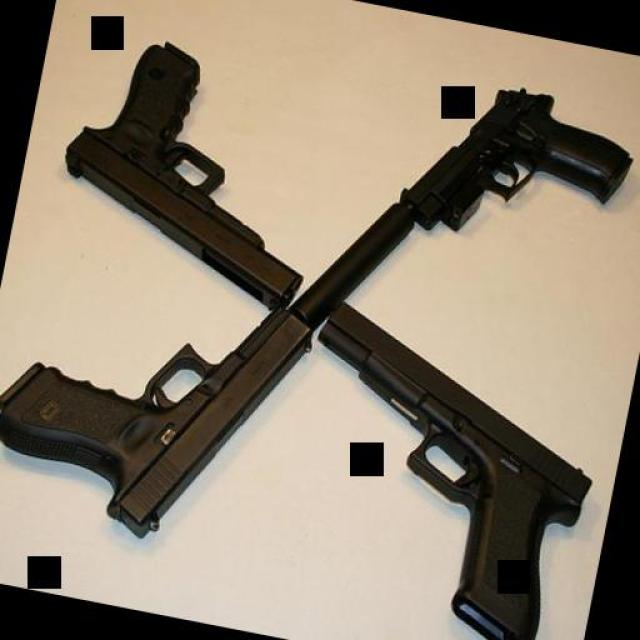gun: (265, 295, 614, 640), (0, 252, 311, 558), (41, 22, 341, 312), (385, 65, 640, 275)
